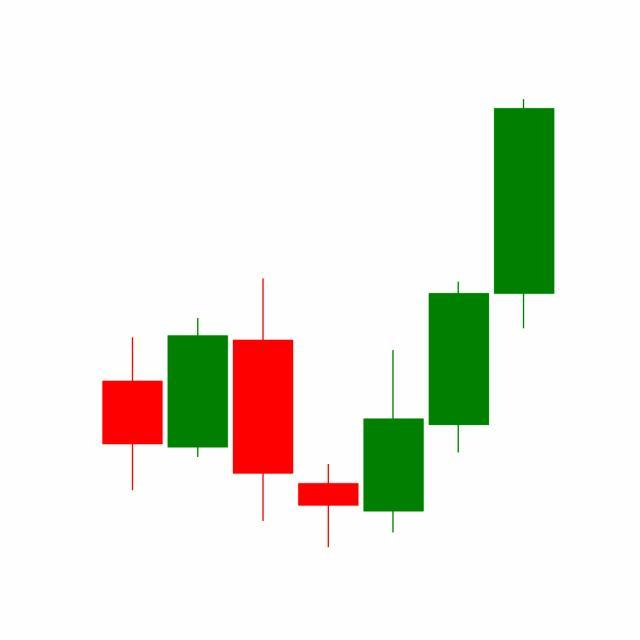Three Outside Up-Down: (295, 278, 492, 548)
